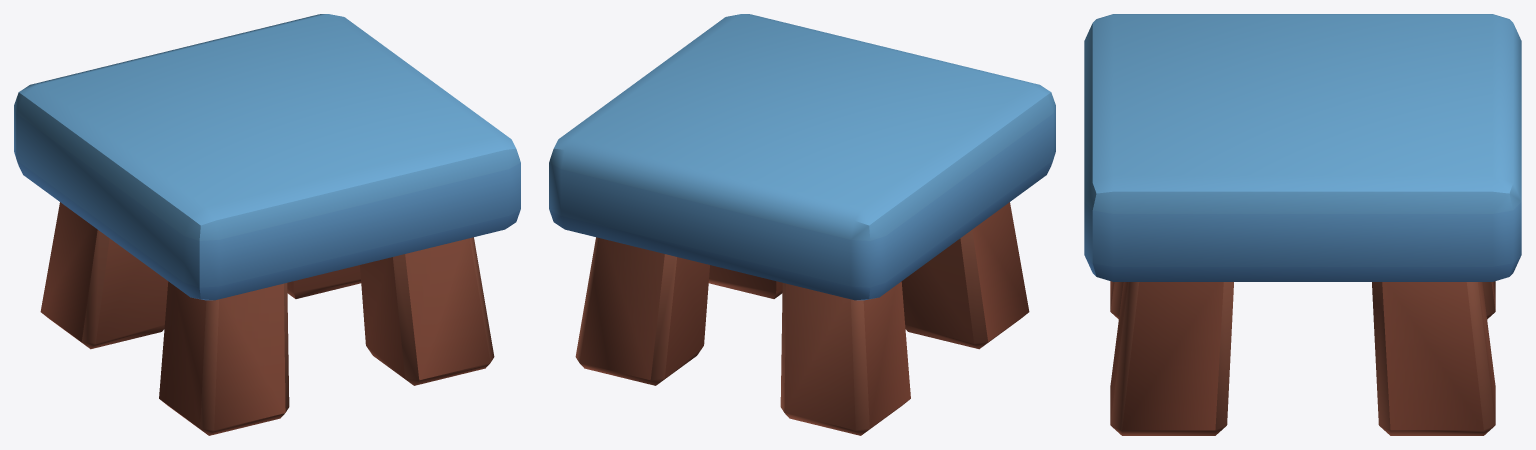
The model's file is chair_stool.glb.
3 renders of one model, left to right at view 1: azimuth 30°, elevation 25°; view 2: azimuth 150°, elevation 25°; view 3: azimuth 270°, elevation 25°, orthographic. The views are drawn at different scales.
Visible parts, largest first — view 1: chair_stool; view 2: chair_stool; view 3: chair_stool.
Boxes of the visible parts, x1,y1,x2,y2 form: chair_stool: (14,14,520,435); chair_stool: (549,14,1055,435); chair_stool: (1084,14,1521,435).
Size of the model in its own units: 0.75 by 0.5 by 0.75.
Materials: 1 (1 with a texture image).
